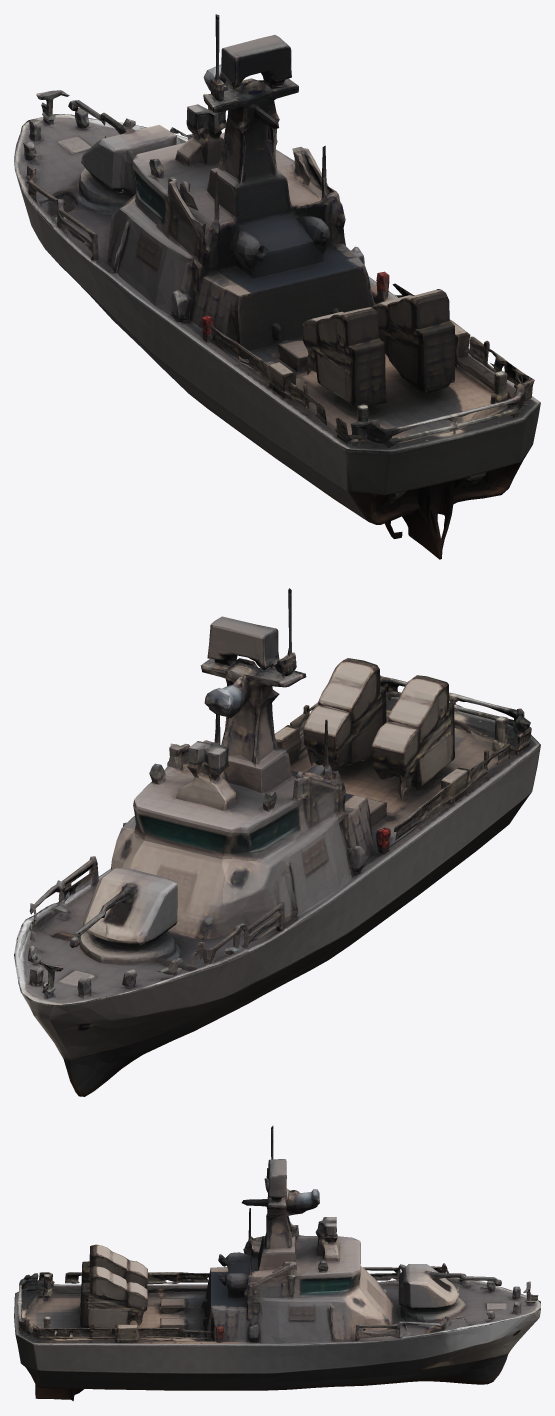
The model's file is unit_saar_missile_boat.glb.
3 views of the same model, one above another, from view 1: azimuth 30°, elevation 25°; view 2: azimuth 150°, elevation 25°; view 3: azimuth 270°, elevation 25° (orthographic). The views are drawn at different scales.
Visible parts, largest first — view 1: world; view 2: world; view 3: world.
Part boxes in pixels (x1,y1,x2,y2): world: [14, 14, 540, 559]; world: [14, 588, 540, 1096]; world: [14, 1125, 540, 1401].
Bounding box in the file's own units: 0.2731 × 0.5492 × 1.
1 material, 1 textured.
